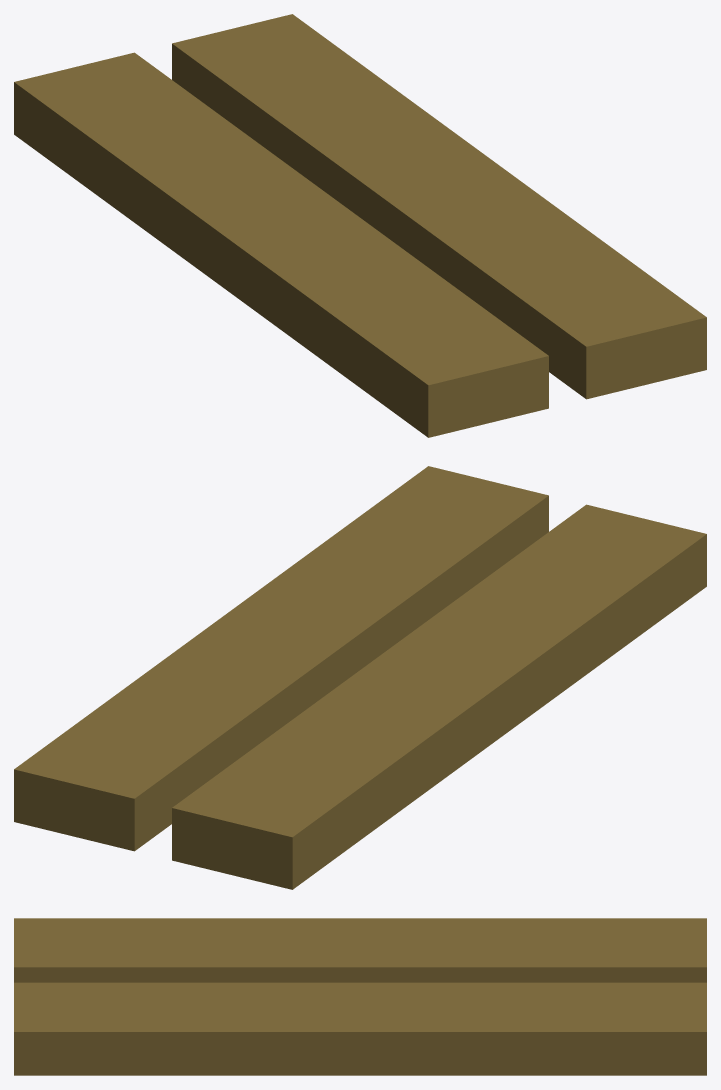
File: fld_stubble.glb
3 renders of one model, top to bottom at view 1: azimuth 30°, elevation 25°; view 2: azimuth 150°, elevation 25°; view 3: azimuth 270°, elevation 25°, orthographic. The views are drawn at different scales.
Parts seen in each view (by area): view 1: fld_stubble; view 2: fld_stubble; view 3: fld_stubble.
Part boxes in pixels (bbox=[...]): fld_stubble: bbox=[14, 14, 706, 437]; fld_stubble: bbox=[14, 466, 706, 889]; fld_stubble: bbox=[14, 918, 706, 1075].
Bounding box in the file's own units: 0.194 × 0.035 × 0.5.
